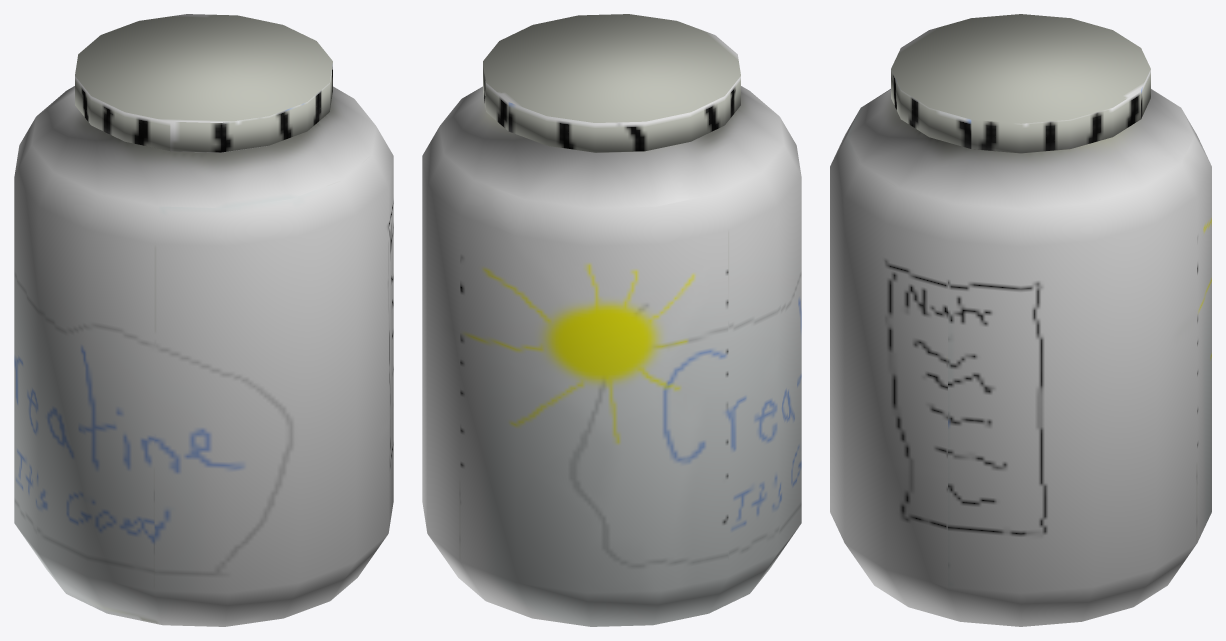
Rendered from creatine.dae.
The picture shows the model from 3 angles, left to right: view 1: azimuth 30°, elevation 25°; view 2: azimuth 150°, elevation 25°; view 3: azimuth 270°, elevation 25°; orthographic projection.
Parts seen in each view (by area): view 1: Cylinder; view 2: Cylinder; view 3: Cylinder.
Boxes of the visible parts, x1,y1,x2,y2 form: Cylinder: (14, 14, 393, 626); Cylinder: (422, 14, 801, 626); Cylinder: (830, 14, 1211, 626).
Bounding box in the file's own units: 2 × 2 × 2.84.
